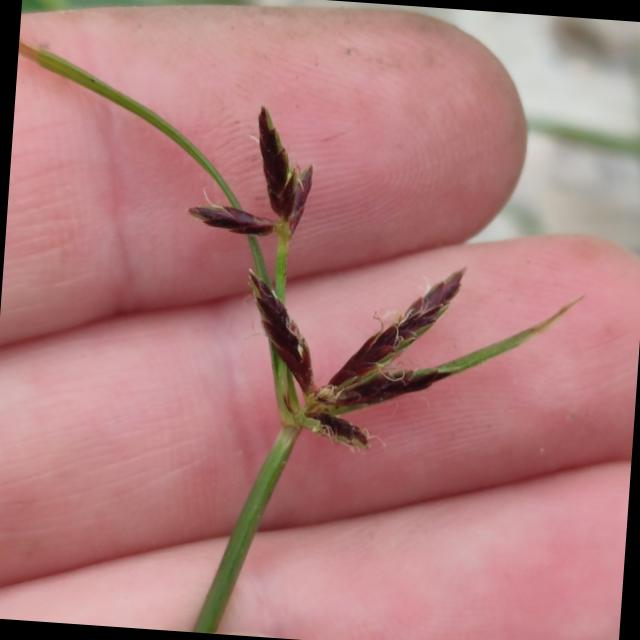cyperus: (157, 92, 518, 482)
